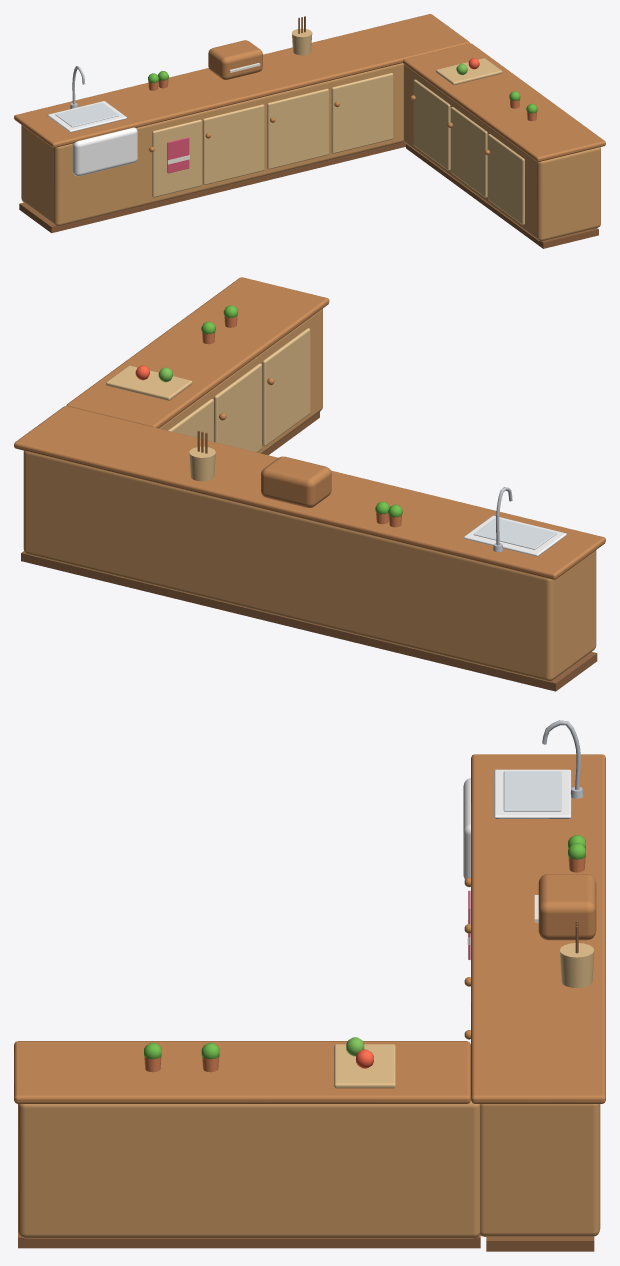
File: sink-farm.glb
3 views of the same model, one above another, from view 1: azimuth 30°, elevation 25°; view 2: azimuth 150°, elevation 25°; view 3: azimuth 270°, elevation 25° (orthographic). The views are drawn at different scales.
Size of the model in its own units: 4.22 by 1.33 by 3.07.
